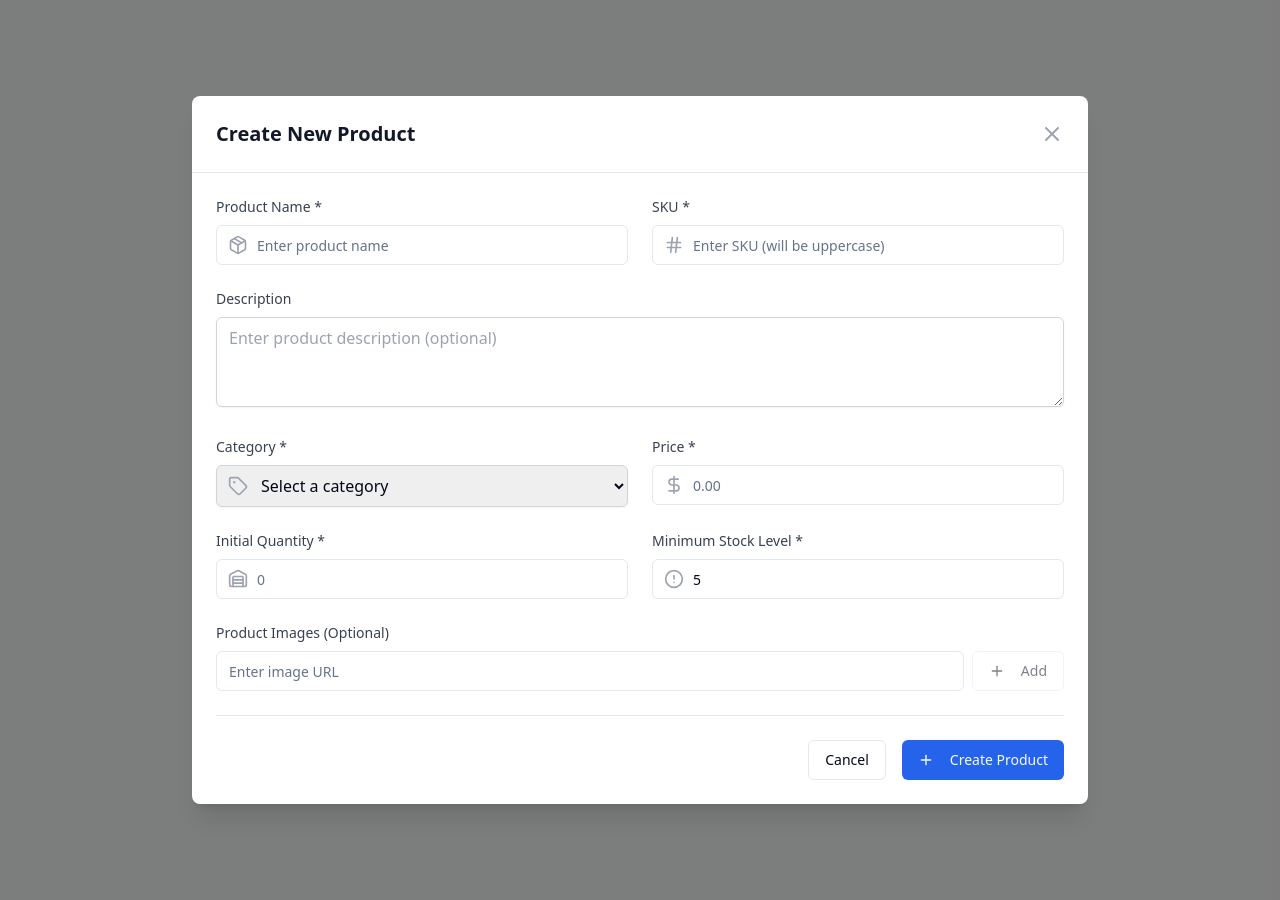
Test: CreateProductModal › Negative Tests › should show validation error for SKU that is too short
The image size is (1280, 900).
Type "AB" into the field labelled "SKU *". click: (858, 245)
box: [652,225,1064,265]
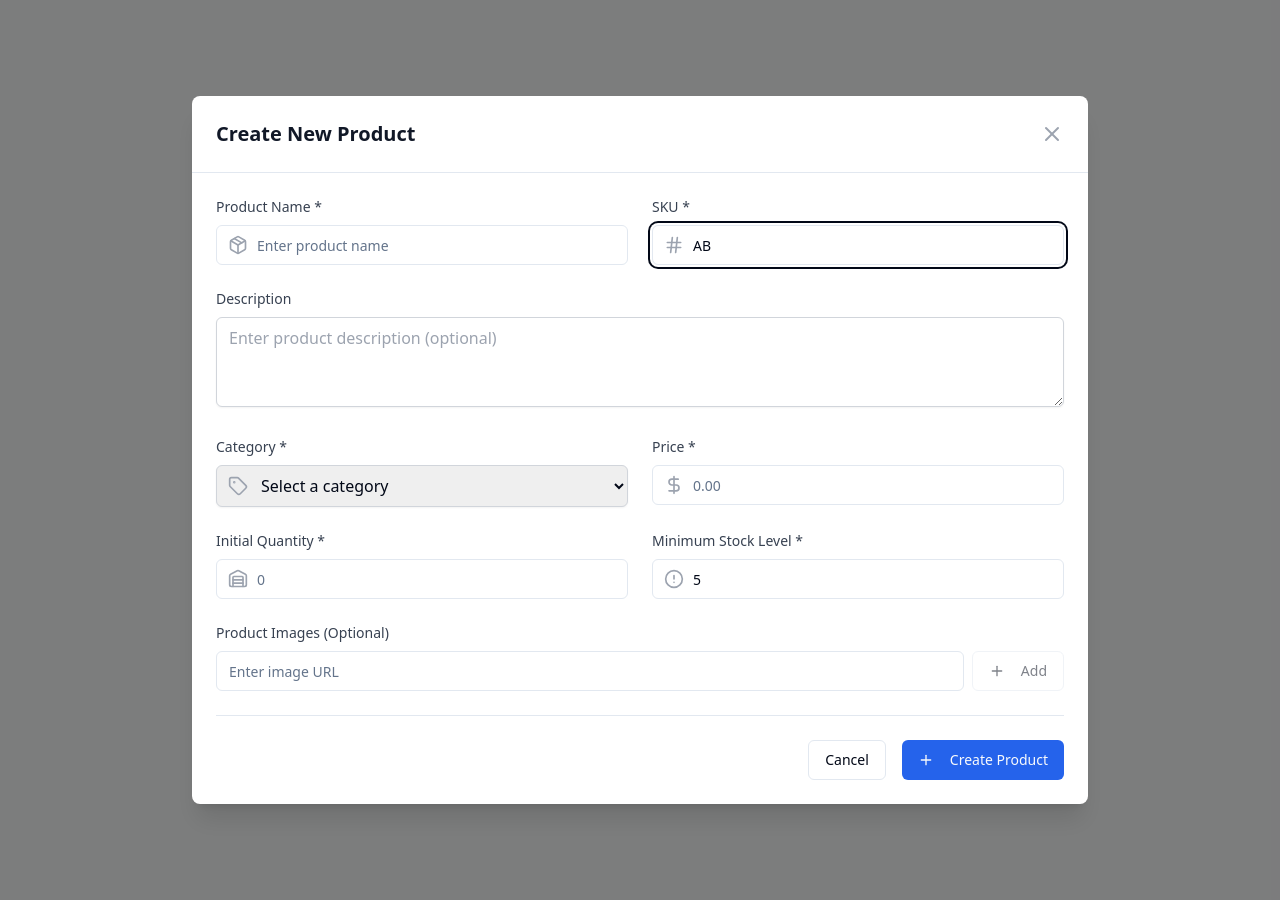
Click the button "Create Product". click: (983, 760)
box: [902,740,1064,780]
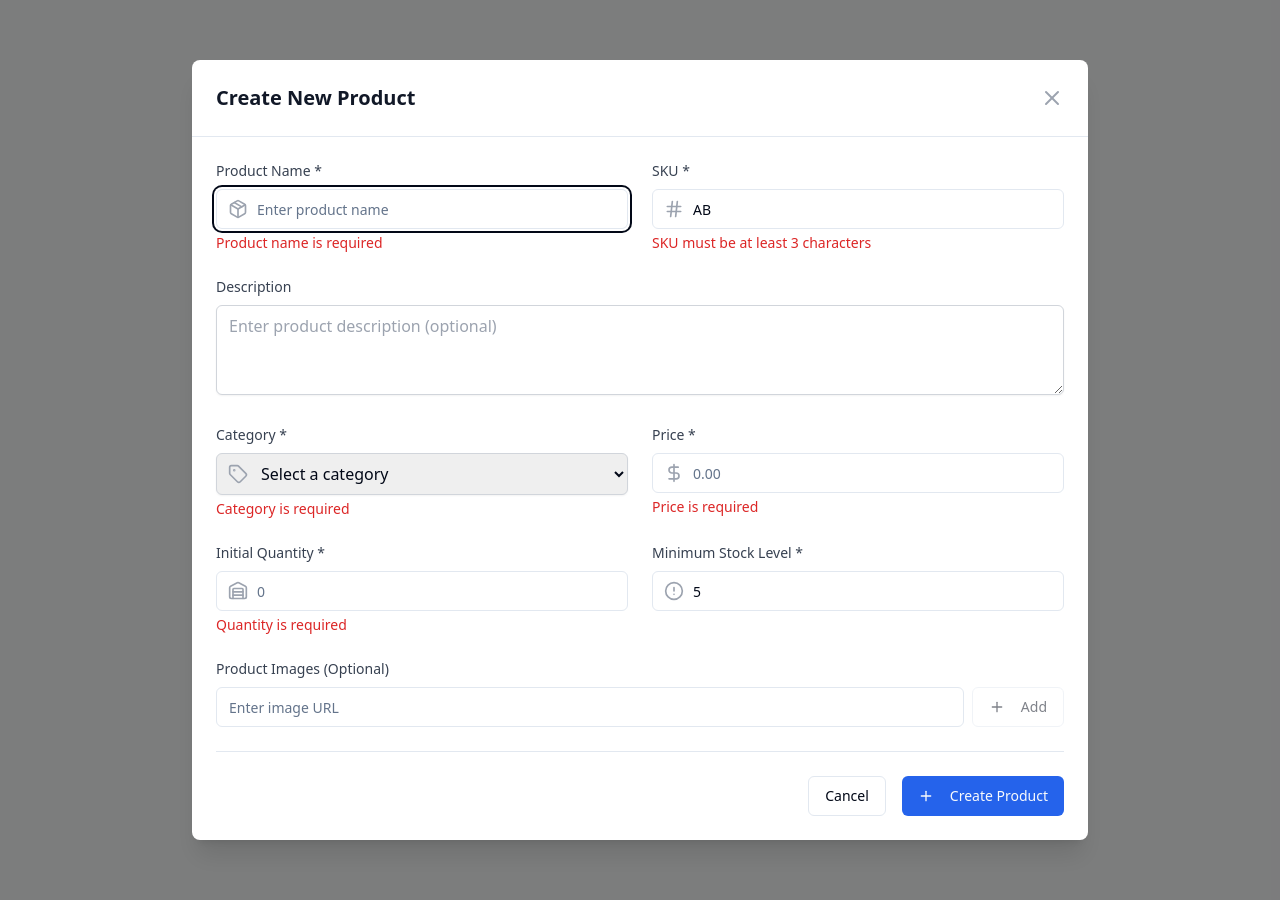
Now the text "SKU must be at least 3 characters" is shown, box [652,233,871,252]
